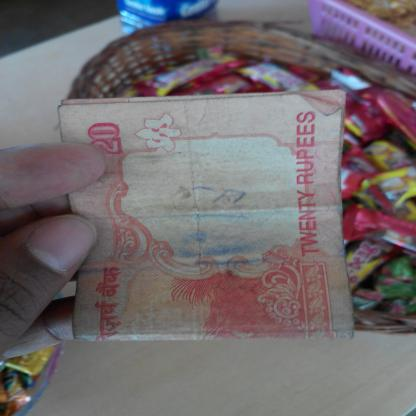Old20Back: (63, 101, 341, 338)
